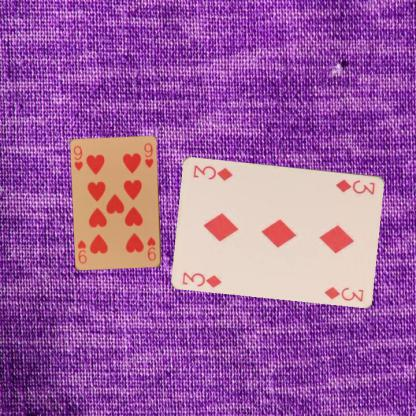3d: (180, 269, 223, 289), (334, 176, 376, 196)
9h: (71, 143, 84, 173), (145, 234, 157, 262)
